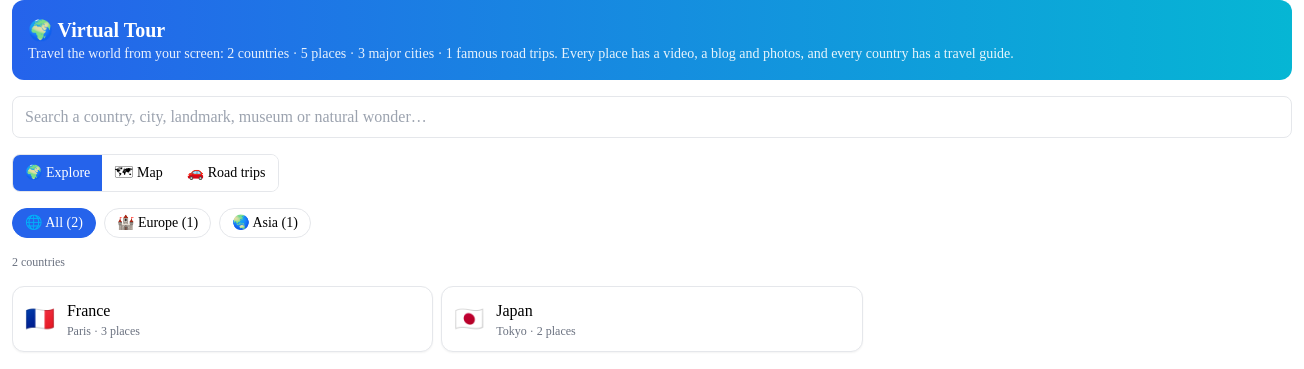
Test: VirtualTour › filters countries by continent
Expected: the button "🇫🇷 France Paris · 3 places" is shown, [12,286,433,352]
What coordinates should you click on to do the following:
click the button "🌏 Asia (1)"
I would click on:
 (265, 223)
Its box is [219,208,311,238].
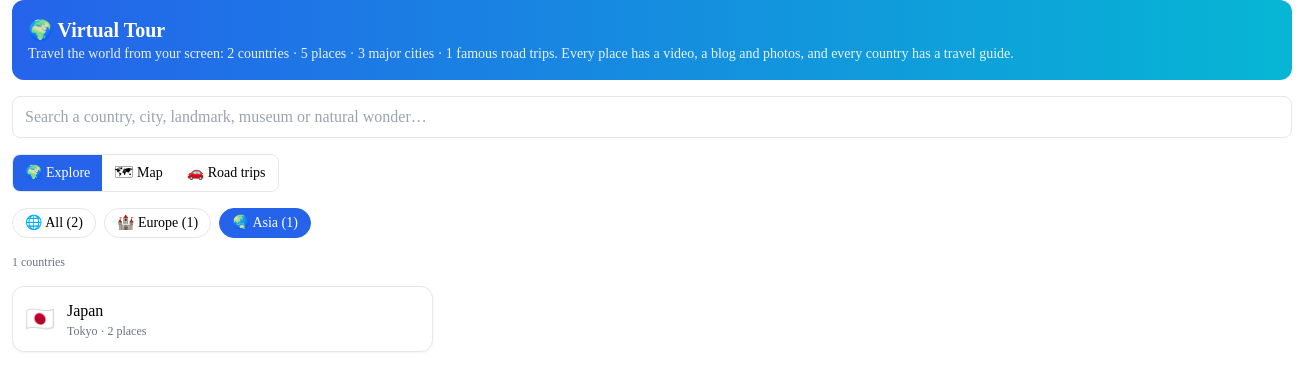
Expected: the button "🇯🇵 Japan Tokyo · 2 places" is shown, [12,286,433,352]
Expected: the button "France" is gone
What coordinates should you click on to do the following:
click the button "🌐 All (2)"
I would click on:
 (54, 223)
Its box is [12,208,96,238].
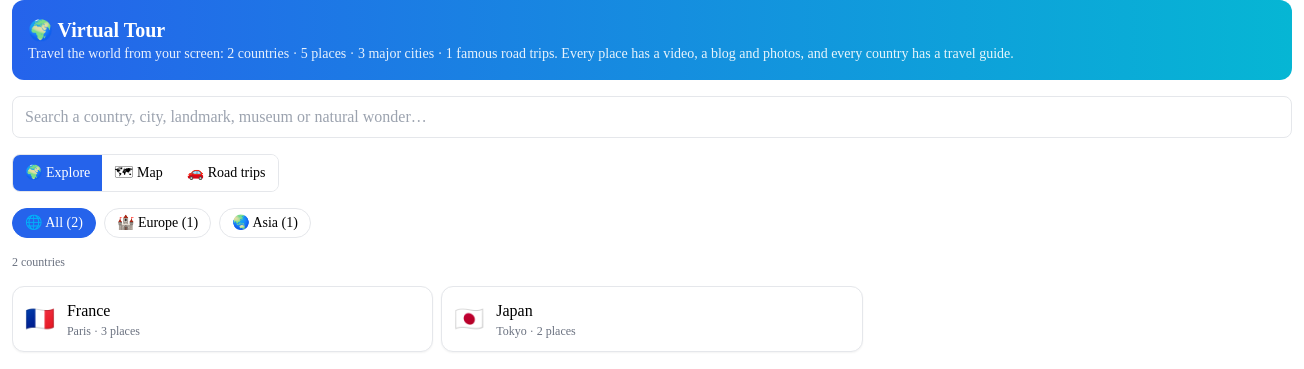
Expected: the button "🇫🇷 France Paris · 3 places" is shown, [12,286,433,352]
